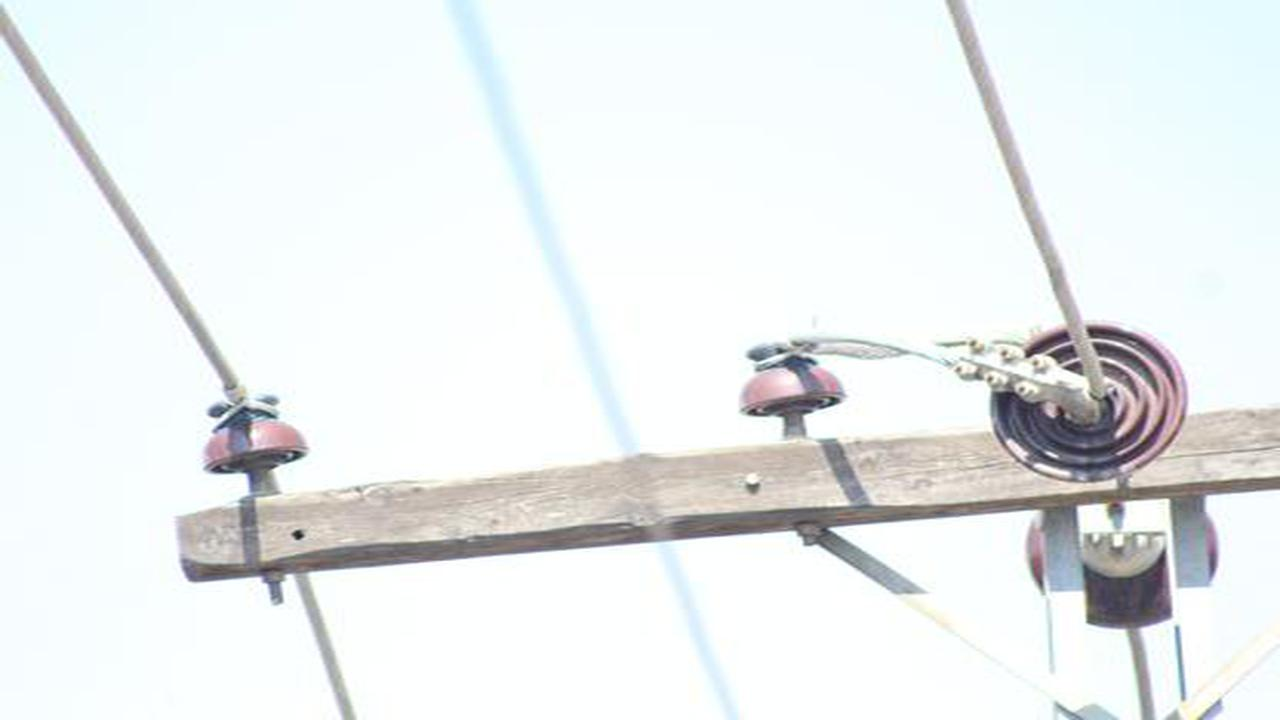insulator_disc: (986, 314, 1193, 490), (1025, 512, 1221, 627)
insulator_pin: (730, 336, 854, 422), (203, 387, 314, 476)
